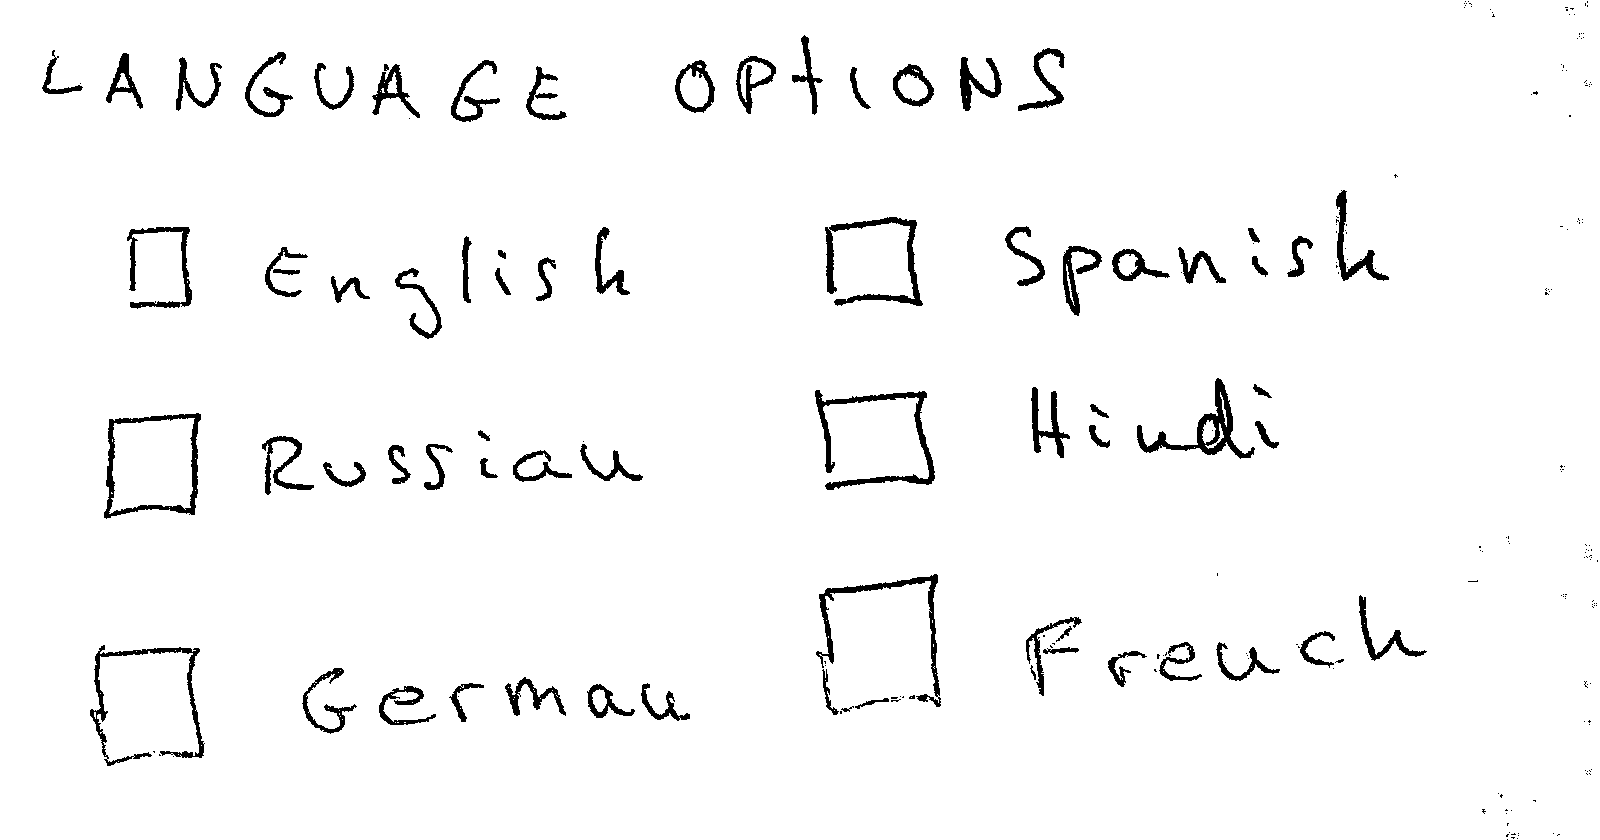Check Box: (814, 570, 1443, 715), (86, 635, 694, 770), (825, 191, 1398, 315), (96, 403, 653, 529), (119, 215, 639, 343), (810, 375, 1290, 494)
